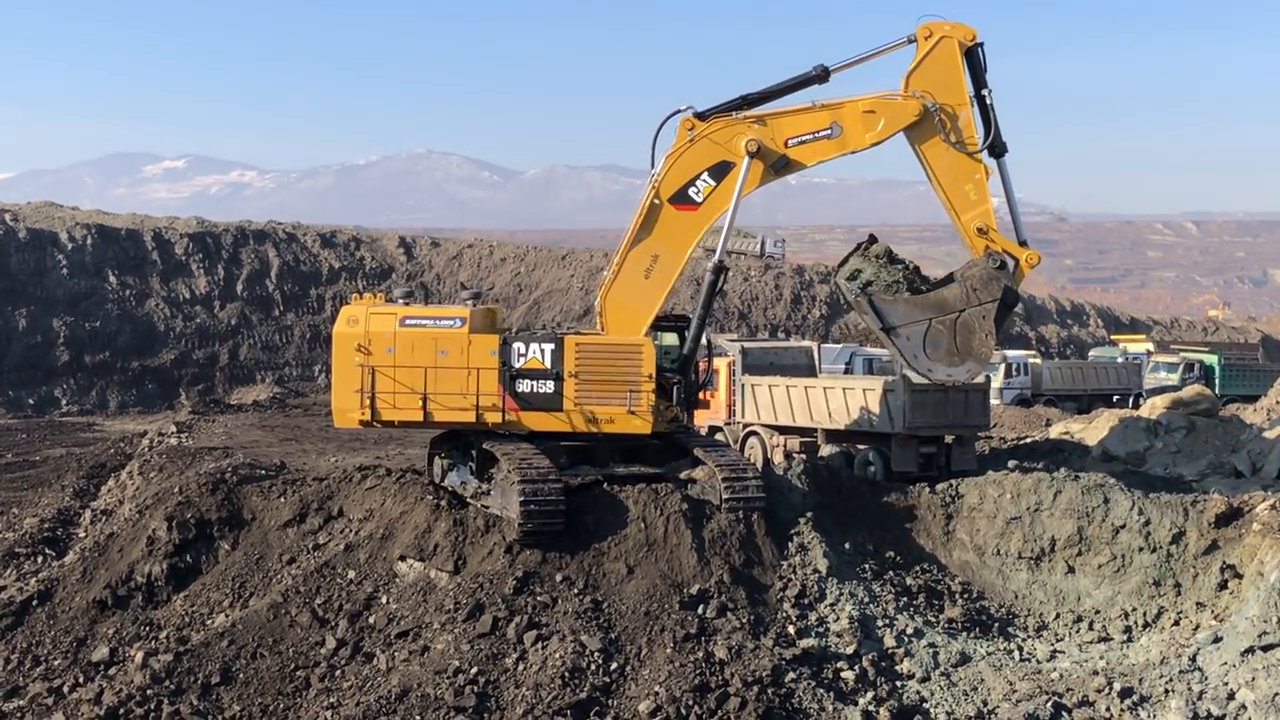full: (824, 228, 1032, 384)
